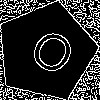O: (21, 26, 80, 86)
